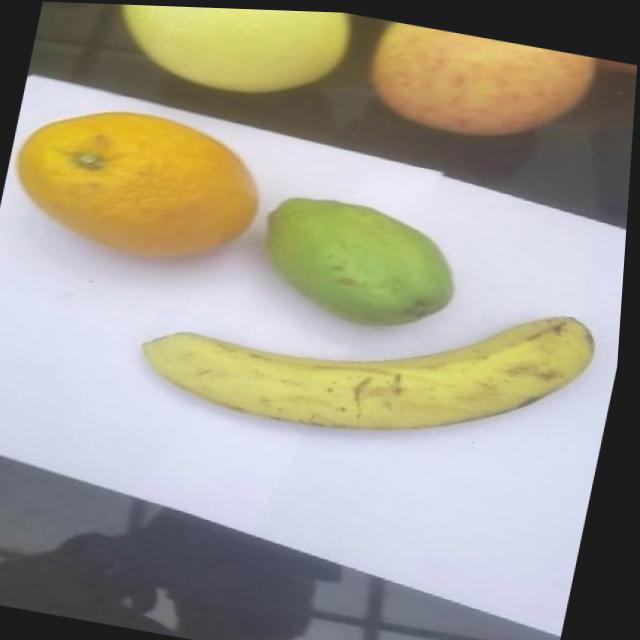Banana: (133, 240, 608, 469)
Orange: (4, 91, 276, 274), (359, 16, 600, 152)
